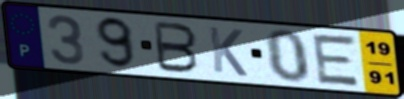0: (259, 27, 314, 84)
3: (46, 13, 86, 66)
9: (93, 15, 138, 72)
B: (152, 20, 201, 75)
E: (310, 32, 363, 89)
K: (206, 24, 250, 79)
